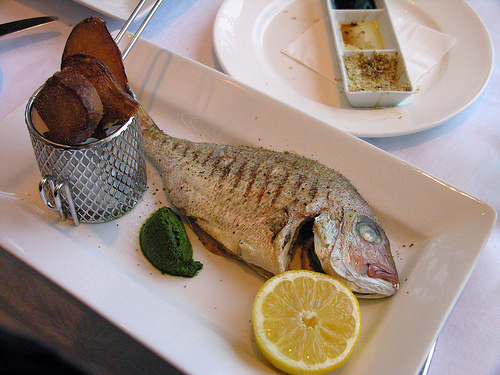fish: (138, 107, 400, 298)
